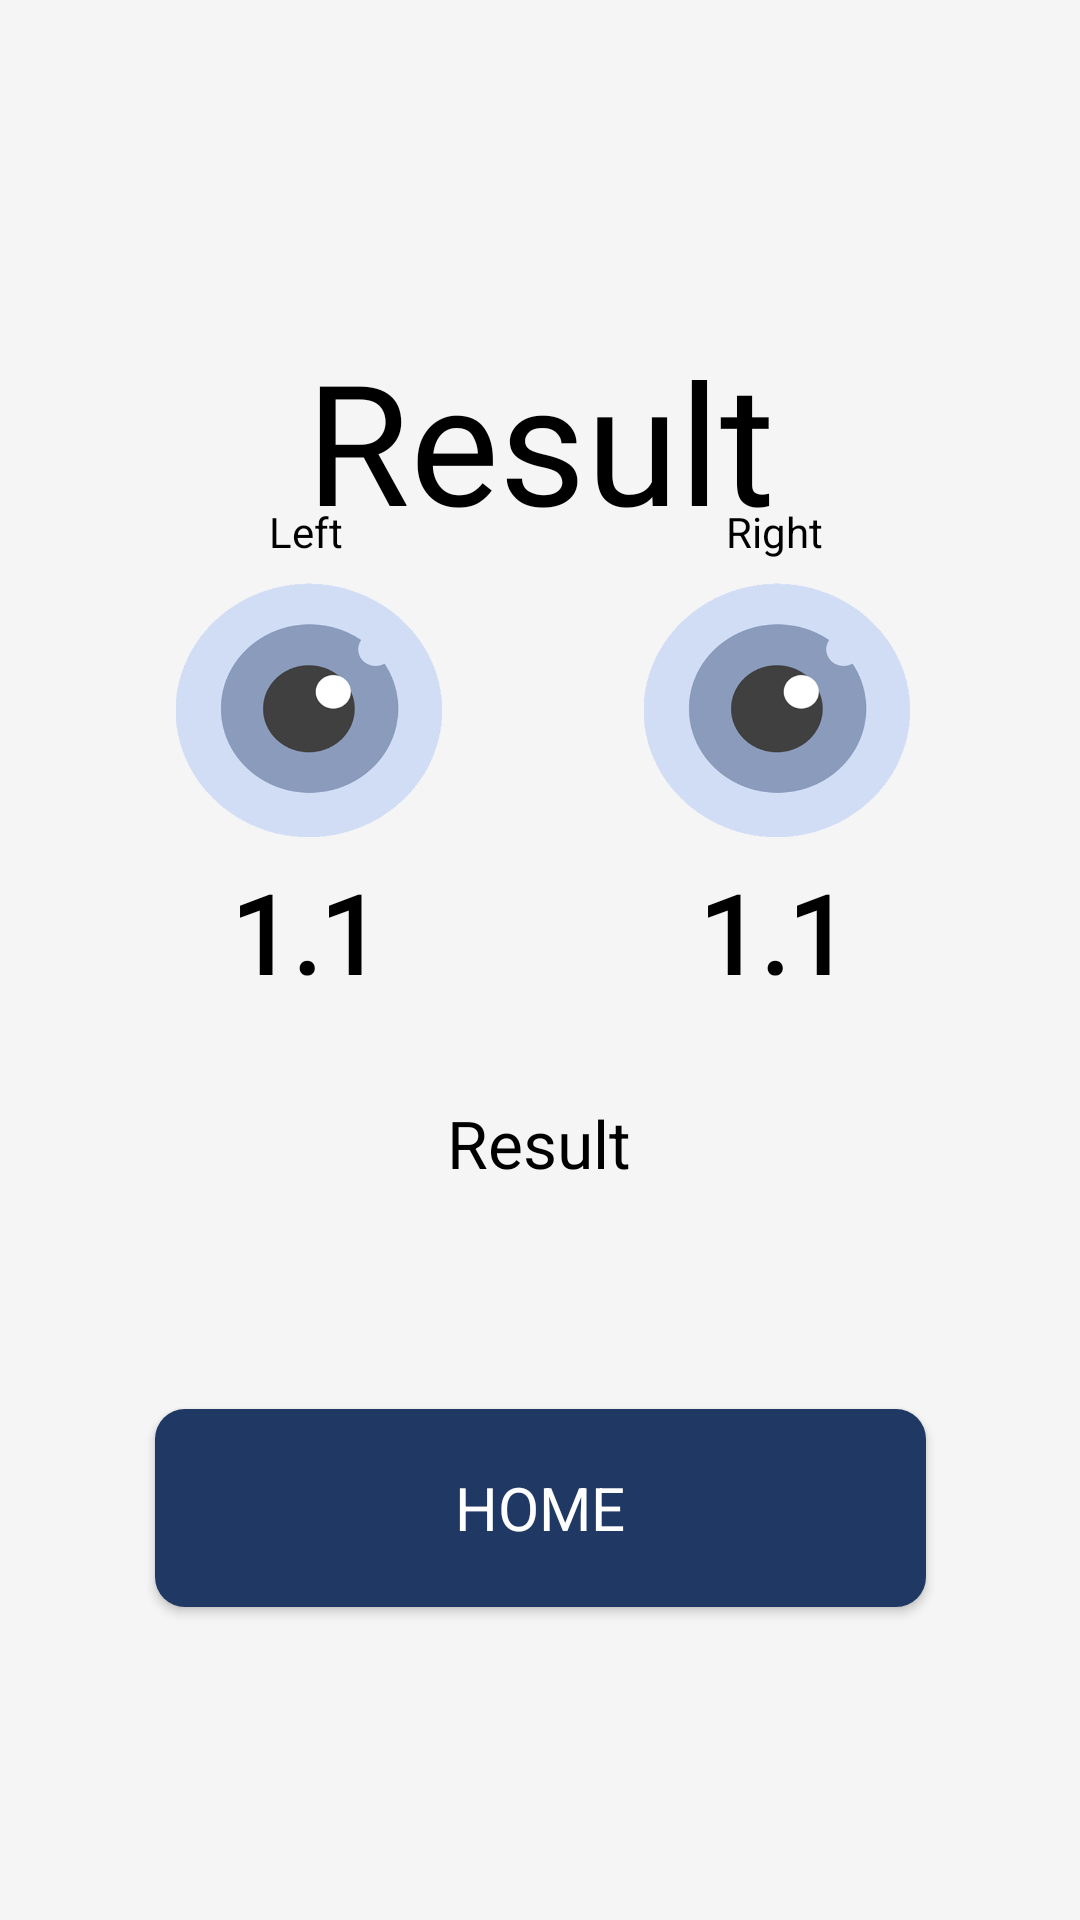

Icon click points for this 1080 × 1920 phone screenshot, format (x,y):
eye: (309,710), (777,710)
